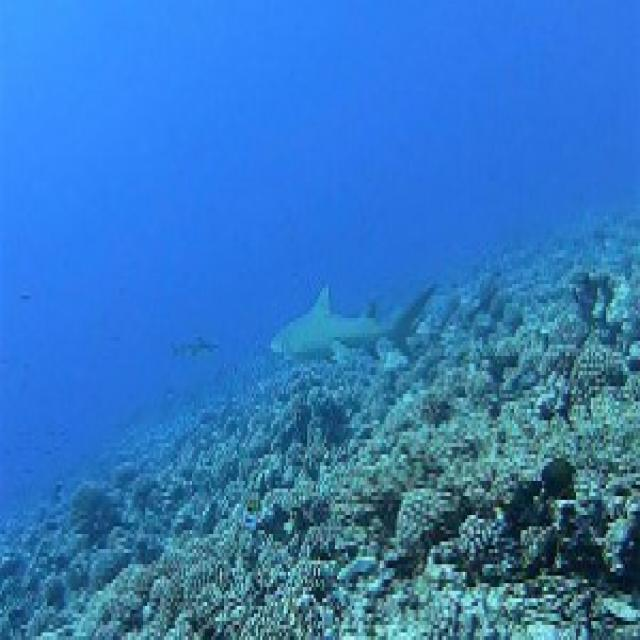Shark: (270, 281, 441, 368), (163, 329, 222, 367)
